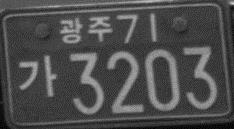0: (144, 47, 181, 112)
1: (147, 12, 161, 43)
2: (105, 49, 144, 114)
3: (180, 44, 218, 110), (68, 51, 105, 116)
7: (115, 11, 139, 46)
가: (17, 53, 57, 99)
광주_O: (59, 13, 112, 45)
